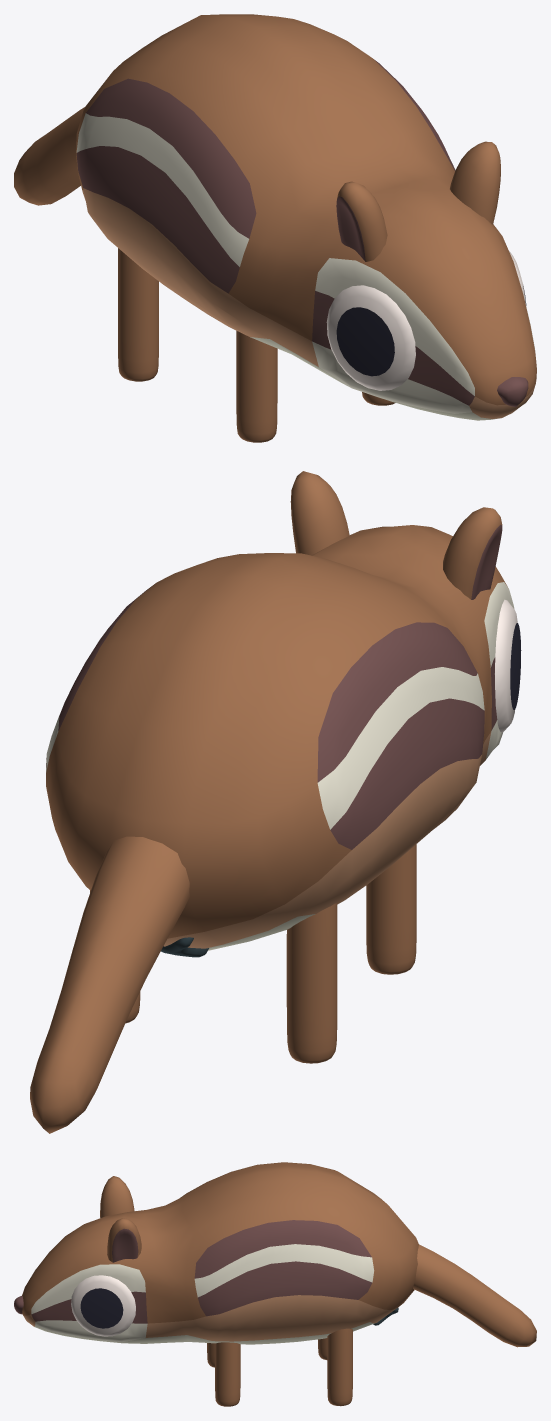
The model's file is Chipmunk.glb.
3 views of the same model, one above another, from view 1: azimuth 30°, elevation 25°; view 2: azimuth 150°, elevation 25°; view 3: azimuth 270°, elevation 25° (orthographic). The views are drawn at different scales.
Visible parts, largest first — view 1: Chipmunk; view 2: Chipmunk; view 3: Chipmunk.
Part boxes in pixels (bbox=[...]): Chipmunk: bbox=[14, 14, 536, 442]; Chipmunk: bbox=[30, 471, 521, 1133]; Chipmunk: bbox=[14, 1162, 536, 1406].
Size of the model in its own units: 0.804 by 0.9961 by 2.22.
1 material, 1 textured.
